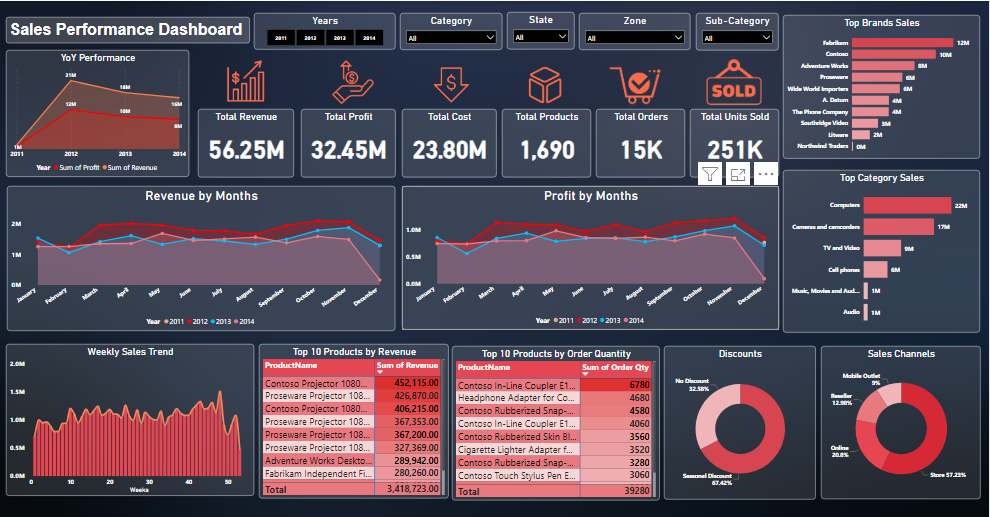

This screenshot's page, from the dashboard's own definition file:
{"tool":"powerbi","page":{"name":"Dashboard","canvas":[2300,1200],"ordinal":0},"visuals":[{"type":"textbox","box":[14.4,36.7,566.7,61.1],"z":0},{"type":"cardVisual","title":"Total Revenue","fields":{"Data":["SalesData.Total Revenue"]},"box":[460,251.4,222.9,158.6],"z":1000},{"type":"cardVisual","title":"Total Profit","fields":{"Data":["SalesData.Total Profit"]},"box":[700,251.4,220,158.6],"z":2000},{"type":"cardVisual","title":"Total Products","fields":{"Data":["Count(SalesProduct.ProductName)"]},"box":[1168.6,251.4,207,158.6],"z":3000},{"type":"areaChart","title":"Revenue by Months","fields":{"Category":["SalesData.Order Date.Variation.Date Hierarchy.Month"],"Y":["Sum(SalesData.Revenue)"],"Series":["SalesData.Order Date.Variation.Date Hierarchy.Year"]},"box":[17.1,430,902.9,337.1],"z":4000},{"type":"slicer","title":"Years","fields":{"Values":["SalesData.Order Date.Variation.Date Hierarchy.Year"]},"box":[591.8,28.2,329.1,84.5],"z":5000},{"type":"lineStackedColumnComboChart","title":"Weekly Sales Trend","fields":{"Category":["SalesData.Week Number"],"Y":["Sum(SalesData.Revenue)"],"Y2":["Sum(SalesData.Revenue)"]},"box":[15,798.3,576.7,353.3],"z":6000},{"type":"pivotTable","title":"Top 10 Products by Revenue","fields":{"Values":["Sum(SalesData.Revenue)"],"Rows":["SalesProduct.ProductName"]},"box":[602.9,798.6,441.4,358.6],"z":7000},{"type":"clusteredBarChart","title":"Top Brands Sales","fields":{"Category":["SalesProduct.BrandName"],"Y":["SalesData.Total Revenue"]},"box":[1822,32.5,458,334],"z":8000},{"type":"clusteredBarChart","title":"Top Category Sales","fields":{"Y":["SalesData.Total Revenue"],"Category":["ProductSubCategory.Product Category"]},"box":[1822,392.5,458,378],"z":9000},{"type":"slicer","title":"State","fields":{"Values":["SalesState.State"]},"box":[1178.3,26.7,156.7,86.7],"z":10000},{"type":"slicer","title":"Category","fields":{"Values":["ProductSubCategory.Product Category"]},"box":[931.1,27.8,237.8,85.6],"z":11000},{"type":"areaChart","title":"Profit by Months","fields":{"Category":["SalesData.Order Date.Variation.Date Hierarchy.Month"],"Series":["SalesData.Order Date.Variation.Date Hierarchy.Year"],"Y":["SalesData.Total Profit"]},"box":[934.3,430,877.1,334.3],"z":12000},{"type":"areaChart","title":"YoY Performance","fields":{"Y":["Sum(SalesData.Profit)","Sum(SalesData.Revenue)"],"Category":["SalesData.Order Date.Variation.Date Hierarchy.Year"]},"box":[14,114,425.6,295.3],"z":13000},{"type":"donutChart","title":"Sales Channels","fields":{"Category":["SalesChannel.ChannelName"],"Y":["Sum(SalesData.Revenue)"]},"box":[1908.6,801.4,371.4,355.7],"z":14000},{"type":"donutChart","title":"Discounts","fields":{"Y":["Sum(SalesData.Revenue)"],"Category":["SalesPromotion.PromotionType"]},"box":[1544.3,801.4,352.9,357.1],"z":15000},{"type":"cardVisual","title":"Total Orders","fields":{"Data":["CountNonNull(SalesData.Order ID)"]},"box":[1387.1,251.4,207.1,158.6],"z":16000},{"type":"cardVisual","title":"Total Units Sold","fields":{"Data":["SalesData.Total Order Qty"]},"box":[1604.3,251.4,207,158.6],"z":17000},{"type":"image","box":[491.4,131.4,160,107.1],"z":18000},{"type":"image","box":[734.3,131.4,167.1,114.3],"z":19000},{"type":"image","box":[1207.1,141.4,121.4,107.1],"z":20000},{"type":"image","box":[1410,128.6,134.3,132.9],"z":21000},{"type":"image","box":[1637.1,118.6,138.6,138.6],"z":22000},{"type":"slicer","title":"Zone","fields":{"Values":["SalesState.Zone"]},"box":[1347,27,259,86],"z":23000},{"type":"cardVisual","title":"Total Cost","fields":{"Data":["Sum(SalesData.Cost of Sales)"]},"box":[934.3,251.4,220,158.6],"z":24000},{"type":"image","box":[978.8,148.8,141.2,92.5],"z":25000},{"type":"slicer","title":"Sub-Category","fields":{"Values":["ProductSubCategory.Product Sub Category"]},"box":[1618.3,28.3,191.7,86.7],"z":26000},{"type":"pivotTable","title":"Top 10 Products by Order Quantity","fields":{"Values":["Sum(SalesData.Order Qty)"],"Rows":["SalesProduct.ProductName"]},"box":[1051.4,801.4,482.9,358.6],"z":27000}]}

Visuals, with their boxes in screenshot pixels (x1, y1, x2, y2), scaled from the page's 2300x1200 canvas onto the 990x517 screenshot:
textbox: [6, 16, 250, 42]
"Total Revenue" cardVisual: [198, 108, 294, 177]
"Total Profit" cardVisual: [301, 108, 396, 177]
"Total Products" cardVisual: [503, 108, 592, 177]
"Revenue by Months" areaChart: [7, 185, 396, 330]
"Years" slicer: [255, 12, 396, 49]
"Weekly Sales Trend" lineStackedColumnComboChart: [6, 344, 255, 496]
"Top 10 Products by Revenue" pivotTable: [260, 344, 450, 499]
"Top Brands Sales" clusteredBarChart: [784, 14, 981, 158]
"Top Category Sales" clusteredBarChart: [784, 169, 981, 332]
"State" slicer: [507, 12, 575, 49]
"Category" slicer: [401, 12, 503, 49]
"Profit by Months" areaChart: [402, 185, 780, 329]
"YoY Performance" areaChart: [6, 49, 189, 176]
"Sales Channels" donutChart: [822, 345, 981, 499]
"Discounts" donutChart: [665, 345, 817, 499]
"Total Orders" cardVisual: [597, 108, 686, 177]
"Total Units Sold" cardVisual: [691, 108, 780, 177]
image: [212, 57, 280, 103]
image: [316, 57, 388, 106]
image: [520, 61, 572, 107]
image: [607, 55, 665, 113]
image: [705, 51, 764, 111]
"Zone" slicer: [580, 12, 691, 49]
"Total Cost" cardVisual: [402, 108, 497, 177]
image: [421, 64, 482, 104]
"Sub-Category" slicer: [697, 12, 779, 50]
"Top 10 Products by Order Quantity" pivotTable: [453, 345, 660, 500]
